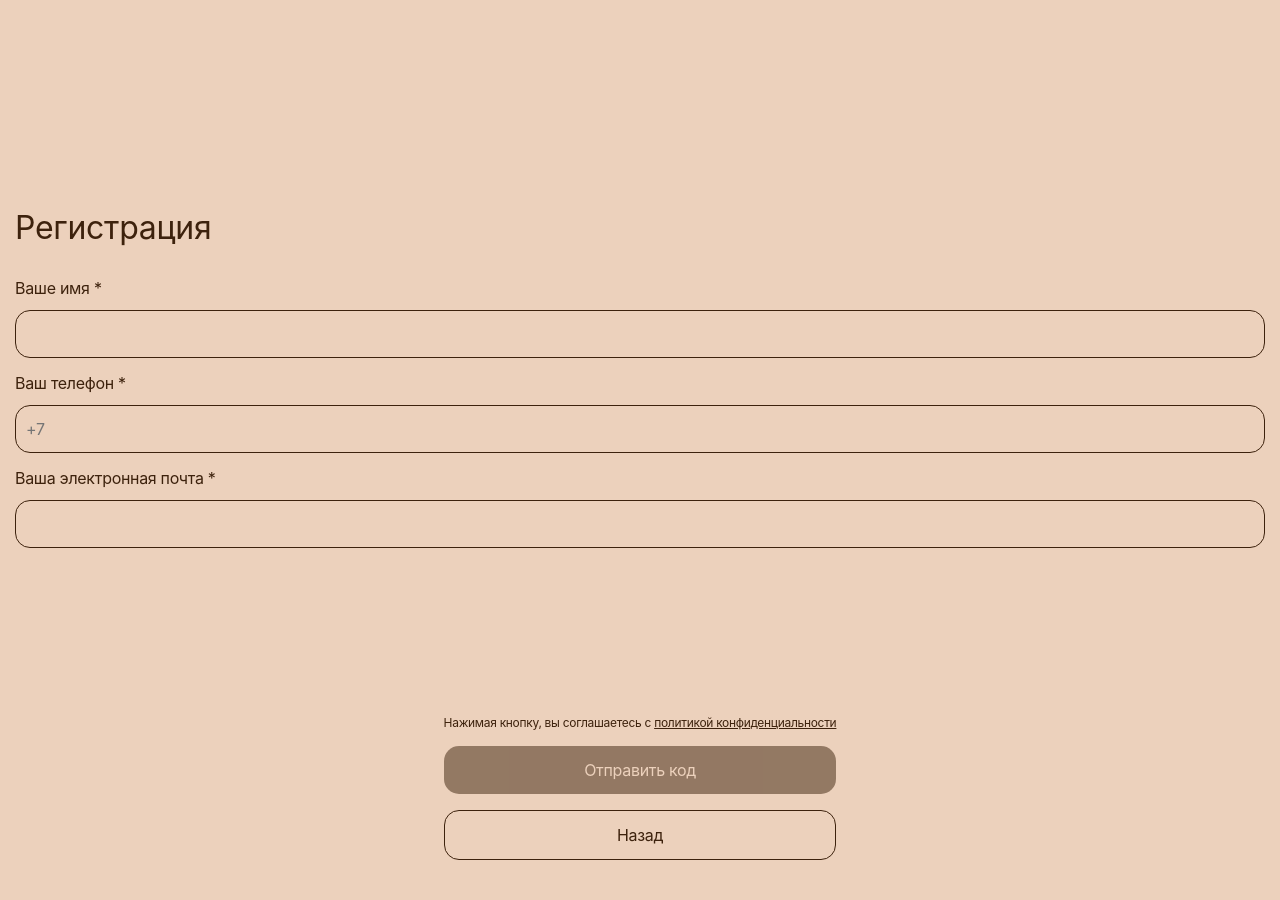
Test case: RegisterStep1 Component › валидация поля "Имя" › показывает ошибку при недопустимых символах
Type "Анна123" into the field labelled "Ваше имя *" at x=640, y=334, box [15,310,1265,358]
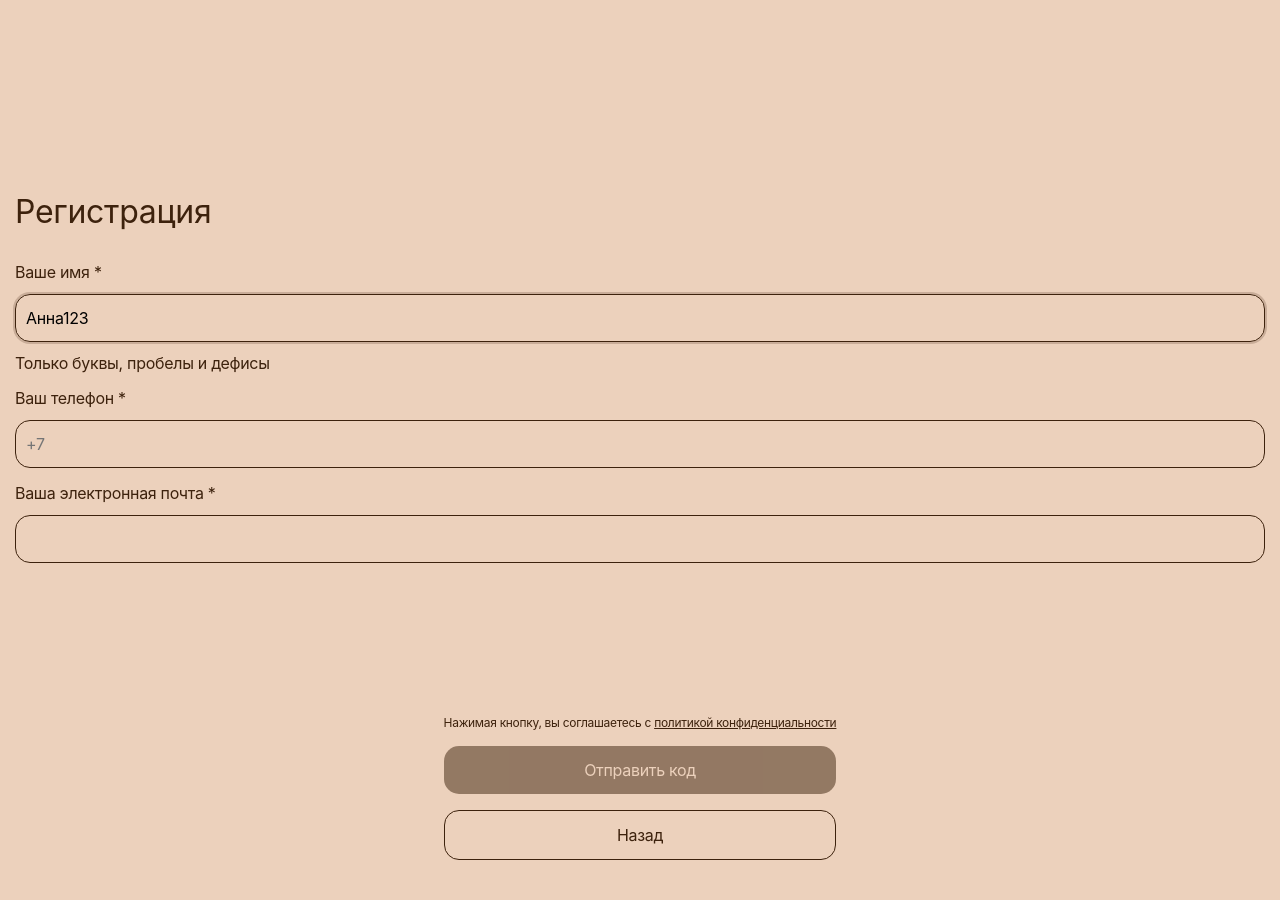
Result: the text "Только буквы, пробелы и дефисы" is shown at [15,353,270,373]
